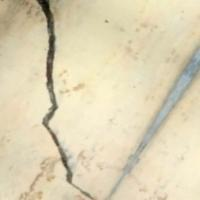crack: (25, 1, 108, 199)
